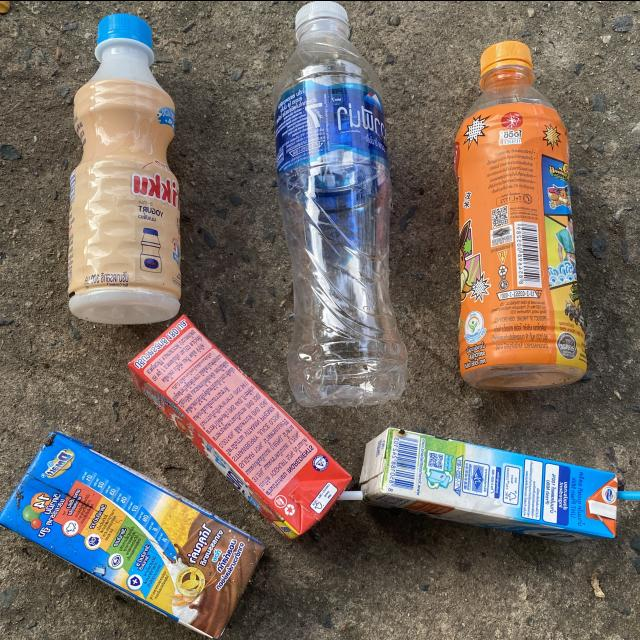plastik: (0, 431, 264, 638), (274, 0, 406, 406), (129, 315, 351, 537), (455, 40, 587, 389), (68, 13, 180, 323), (361, 427, 619, 540)
